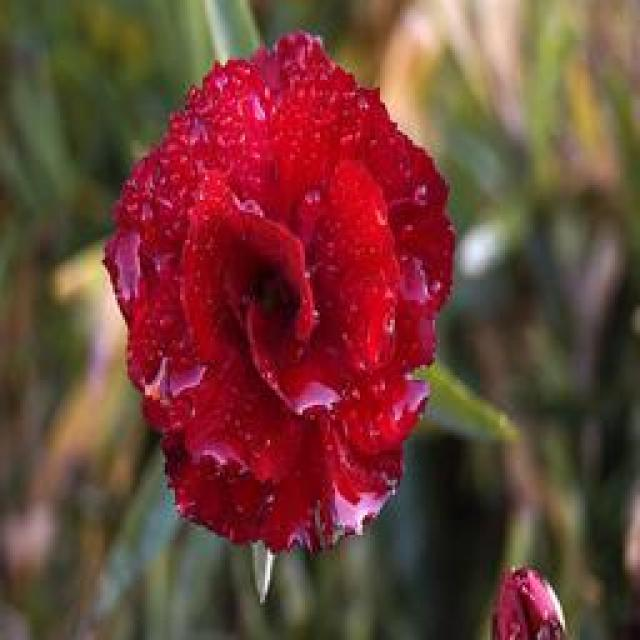carnation: (98, 31, 463, 562)
